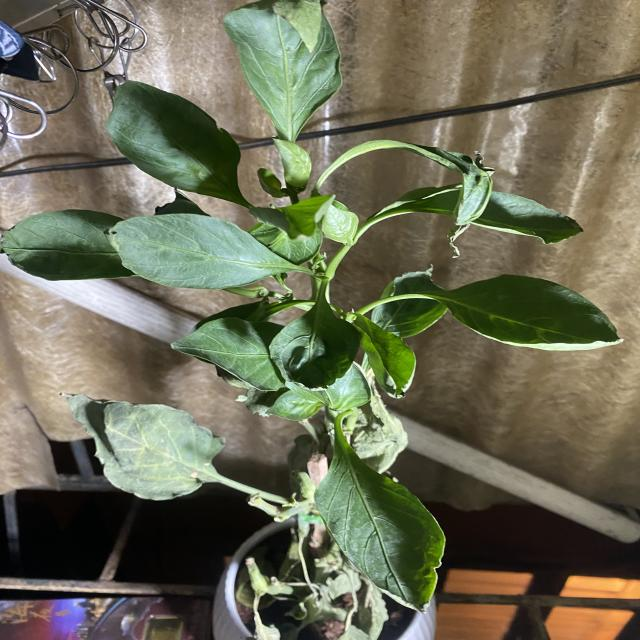Leaf: (312, 448, 446, 613), (57, 390, 224, 500), (223, 2, 345, 140), (441, 273, 626, 355), (106, 80, 242, 191), (104, 212, 290, 291), (269, 309, 363, 393)
